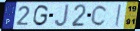2: (71, 3, 88, 27), (15, 5, 31, 27)
C: (90, 4, 108, 27)
G: (32, 4, 50, 28)
I: (115, 4, 122, 27)
J: (54, 4, 70, 28)
